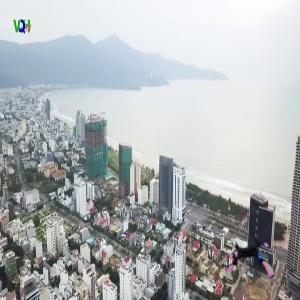drone: (222, 236, 276, 290)
